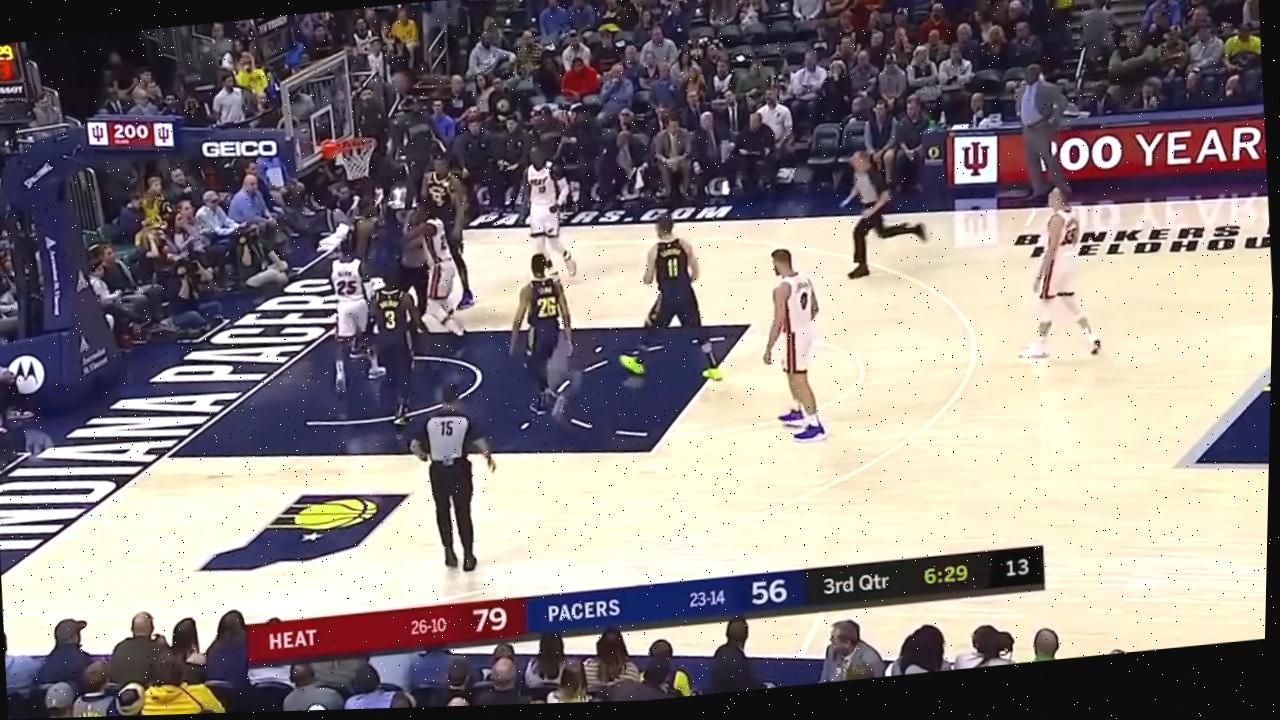foul: (337, 190, 462, 352)
